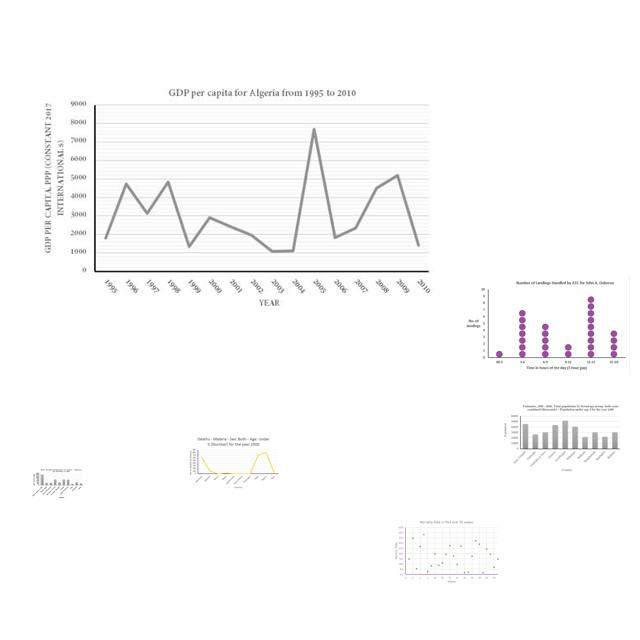Graph: (38, 82, 435, 310), (462, 277, 630, 374), (501, 403, 624, 474), (394, 520, 501, 584), (187, 435, 280, 489), (32, 468, 84, 499)
